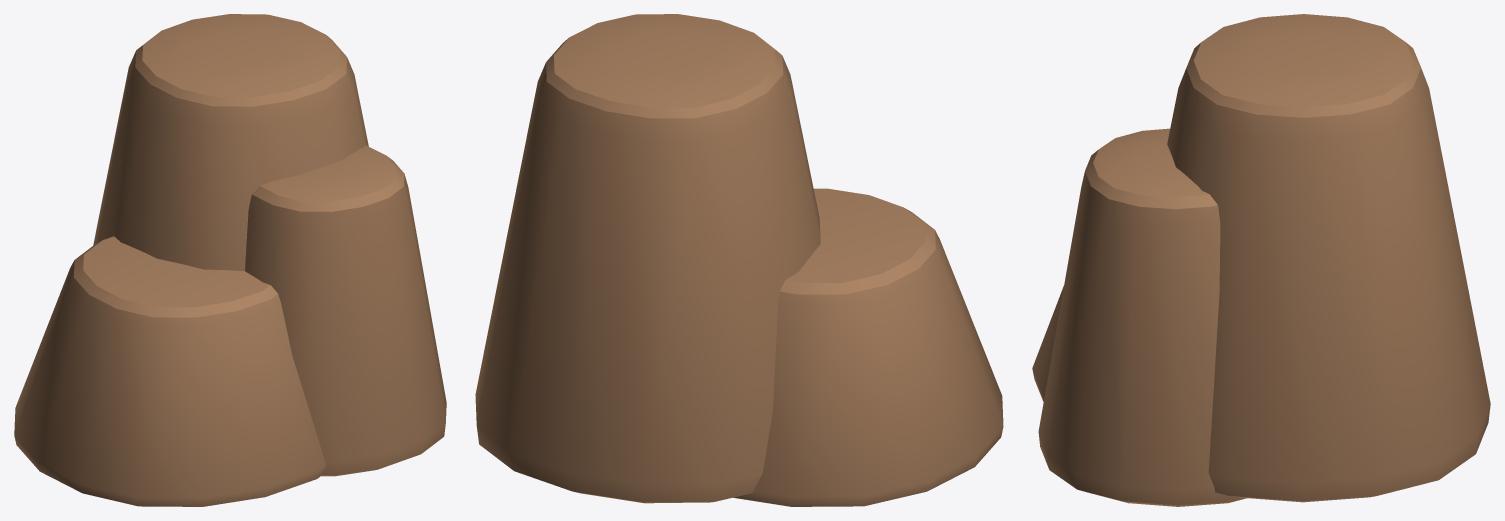
Rendered from RockPlatforms_1.glb.
The picture shows the model from 3 angles, left to right: view 1: azimuth 30°, elevation 25°; view 2: azimuth 150°, elevation 25°; view 3: azimuth 270°, elevation 25°; orthographic projection. The views are drawn at different scales.
Parts seen in each view (by area): view 1: RockPlatforms_1; view 2: RockPlatforms_1; view 3: RockPlatforms_1.
Boxes of the visible parts, x1=… form: RockPlatforms_1: x1=14, y1=14, x2=446, y2=506; RockPlatforms_1: x1=475, y1=14, x2=1003, y2=506; RockPlatforms_1: x1=1032, y1=14, x2=1490, y2=506.
Size of the model in its own units: 6.4 by 5.53 by 5.88.
